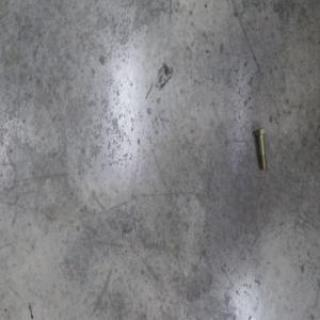Bolttrack_idkeyframe: (254, 126, 267, 170)
